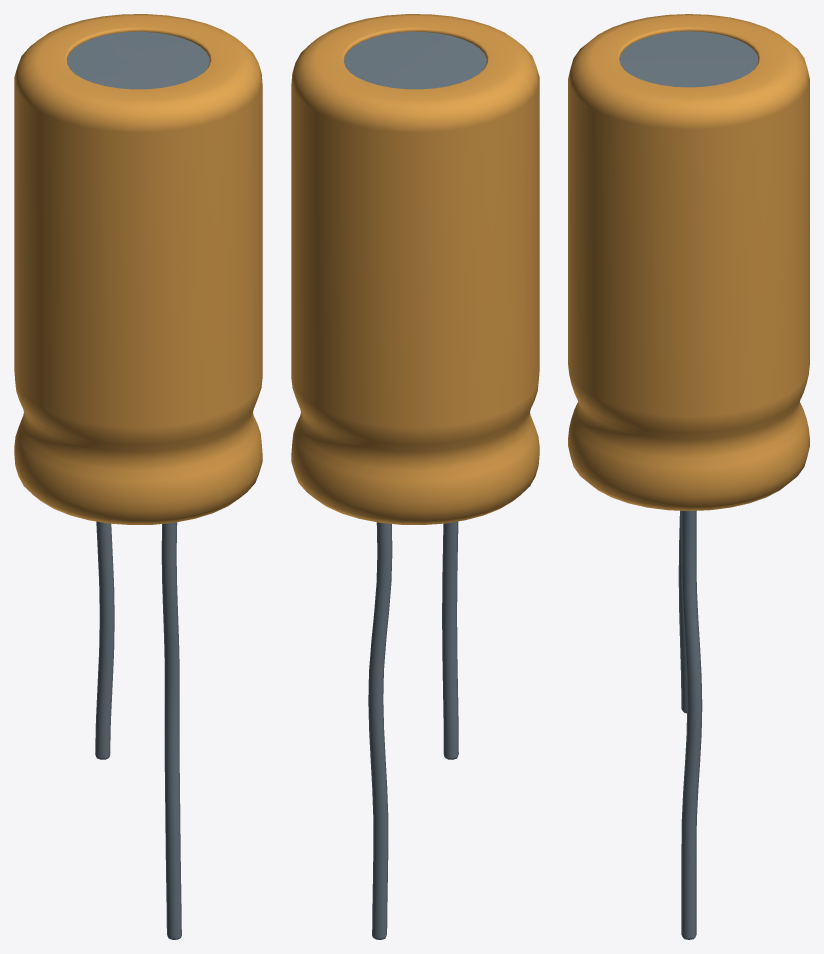
The picture shows the model from 3 angles, left to right: view 1: azimuth 30°, elevation 25°; view 2: azimuth 150°, elevation 25°; view 3: azimuth 270°, elevation 25°; orthographic projection. The views are drawn at different scales.
Visible parts, largest first — view 1: cover_mesh, long_leg_mesh, capacitor_mesh, short_leg_mesh; view 2: cover_mesh, capacitor_mesh, long_leg_mesh, short_leg_mesh; view 3: cover_mesh, long_leg_mesh, capacitor_mesh, short_leg_mesh.
Boxes of the visible parts, x1,y1,x2,y2 form: cover_mesh: (14,14,262,524); long_leg_mesh: (161,522,181,939); capacitor_mesh: (67,31,209,89); short_leg_mesh: (95,521,114,759); cover_mesh: (291,14,539,524); capacitor_mesh: (344,31,486,89); long_leg_mesh: (368,522,392,939); short_leg_mesh: (442,521,458,759); cover_mesh: (568,14,809,510); long_leg_mesh: (681,510,702,939); capacitor_mesh: (619,31,758,87); short_leg_mesh: (678,510,687,713).
Bounding box in the file's own units: 0.9396 × 3.71 × 0.9396.
